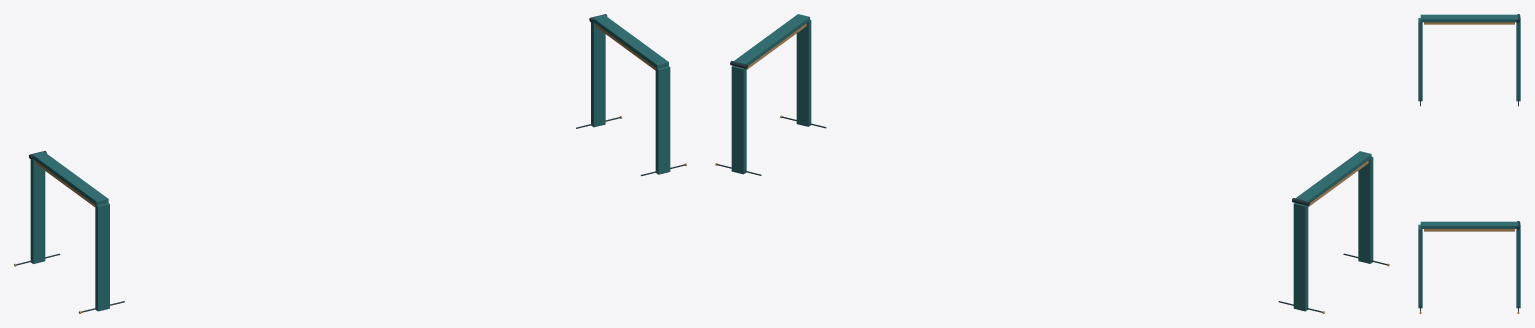
File: long-restraint-rig.glb
The picture shows the model from 3 angles, left to right: view 1: azimuth 30°, elevation 25°; view 2: azimuth 150°, elevation 25°; view 3: azimuth 270°, elevation 25°; orthographic projection. The views are drawn at different scales.
Parts seen in each view (by area): view 1: long-restraint-rig, long-restraint-rig__batch_09, long-restraint-rig__batch_11; view 2: long-restraint-rig, long-restraint-rig__batch_09, long-restraint-rig__batch_11; view 3: long-restraint-rig, long-restraint-rig__batch_09, long-restraint-rig__batch_11, long-restraint-rig__batch_10, long-restraint-rig__batch_12.
Boxes of the visible parts, x1,y1,x2,y2 form: long-restraint-rig: [29, 14, 670, 311]; long-restraint-rig__batch_09: [32, 151, 108, 205]; long-restraint-rig__batch_11: [593, 15, 668, 68]; long-restraint-rig: [730, 19, 1373, 311]; long-restraint-rig__batch_09: [1295, 151, 1371, 202]; long-restraint-rig__batch_11: [734, 14, 809, 65]; long-restraint-rig: [1418, 14, 1520, 308]; long-restraint-rig__batch_09: [1420, 14, 1518, 22]; long-restraint-rig__batch_11: [1420, 221, 1518, 228]; long-restraint-rig__batch_10: [1424, 22, 1514, 24]; long-restraint-rig__batch_12: [1424, 229, 1514, 231].
Size of the model in its own units: 3.03 by 0.52 by 0.585.
